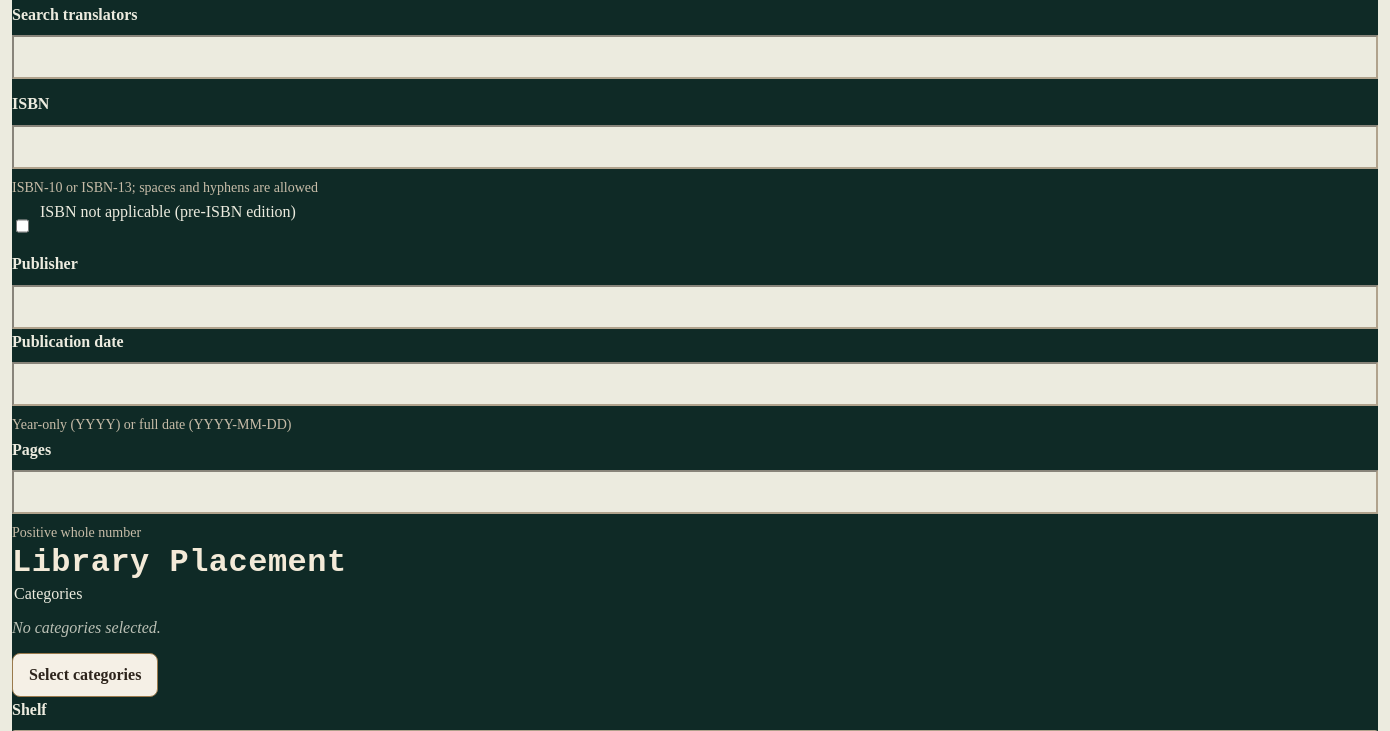
Test: BookForm › marks a pre-1970 publication date as ISBN not applicable
The image size is (1390, 731).
(page scrolled)
Type "1969" into the field labelled "Publication date" at (695, 384), box [12,362,1378,406]
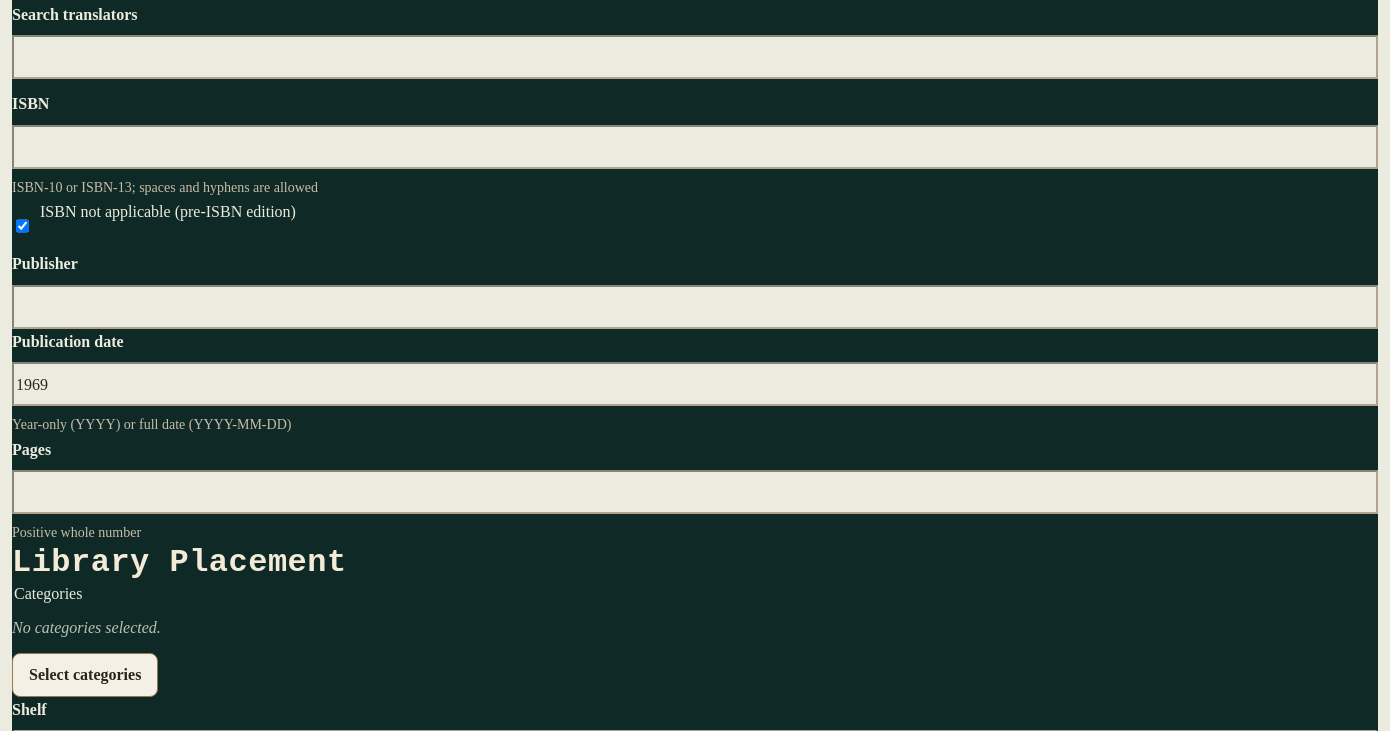
Check: the field labelled "ISBN" is disabled, box [12,125,1378,169]
Check: the checkbox labelled "ISBN not applicable (pre-ISBN edition)" is checked, box [16,204,29,248]
